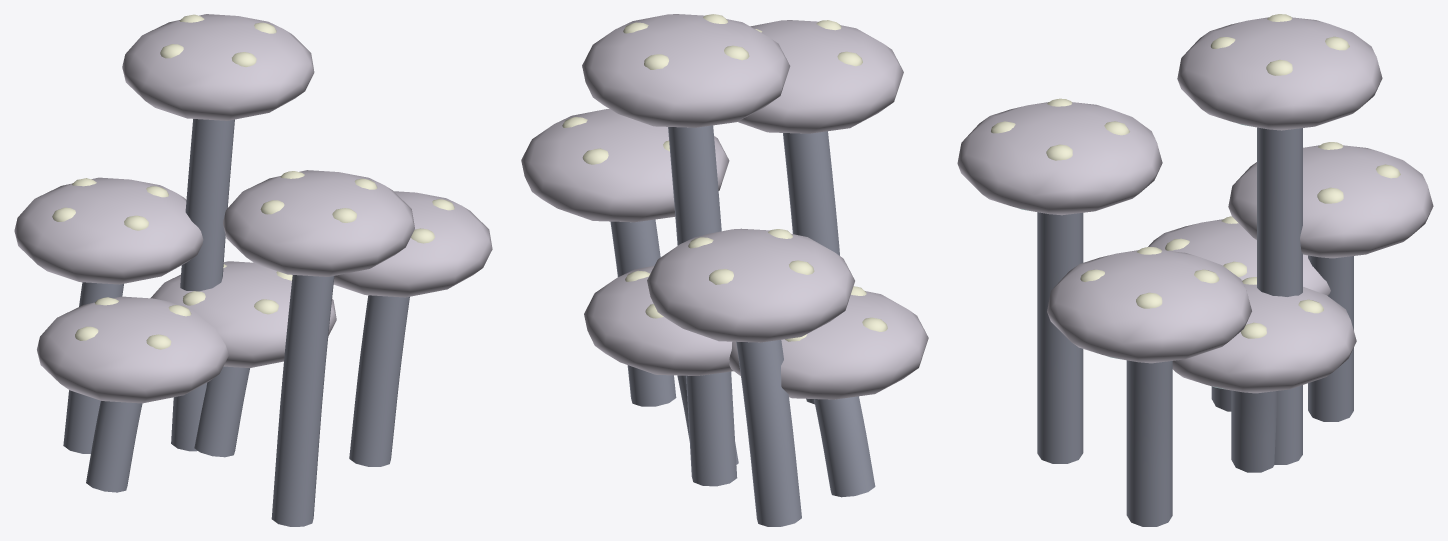
Rendered from bio_spore_fungus_01_far.glb.
3 renders of one model, left to right at view 1: azimuth 30°, elevation 25°; view 2: azimuth 150°, elevation 25°; view 3: azimuth 270°, elevation 25°, orthographic. The views are drawn at different scales.
Parts seen in each view (by area): view 1: Thick umbrella cap.002, Thick umbrella cap.003, Thick umbrella cap.004, Thick umbrella cap.001, Curved stipe.002, Thick umbrella cap.005, Curved stipe.003, Thick umbrella cap, Curved stipe.005, Curved stipe.004, Curved stipe, Curved stipe.001 (+5 smaller); view 2: Thick umbrella cap.003, Thick umbrella cap.001, Thick umbrella cap.005, Thick umbrella cap.002, Thick umbrella cap.004, Curved stipe.003, Thick umbrella cap, Curved stipe.001, Curved stipe.002, Curved stipe.004, Curved stipe.005, Cap nodule.004 (+4 smaller); view 3: Thick umbrella cap.003, Thick umbrella cap.002, Thick umbrella cap.005, Thick umbrella cap.001, Thick umbrella cap, Curved stipe.003, Curved stipe.002, Curved stipe.005, Curved stipe.001, Thick umbrella cap.004, Curved stipe, Cap nodule.008 (+5 smaller).
Boxes of the visible parts, x1,y1,x2,y2 form: Thick umbrella cap.002: (223, 170, 414, 276); Thick umbrella cap.003: (122, 14, 314, 120); Thick umbrella cap.004: (37, 296, 228, 403); Thick umbrella cap.001: (14, 177, 203, 284); Curved stipe.002: (271, 275, 334, 526); Thick umbrella cap.005: (333, 191, 492, 297); Curved stipe.003: (171, 119, 234, 451); Thick umbrella cap: (150, 261, 336, 367); Curved stipe.005: (349, 295, 409, 466); Curved stipe.004: (86, 401, 142, 492); Curved stipe: (194, 366, 249, 457); Curved stipe.001: (63, 282, 123, 453); Thick umbrella cap.003: (582, 14, 790, 127); Thick umbrella cap.001: (647, 228, 854, 342); Thick umbrella cap.005: (521, 109, 729, 222); Thick umbrella cap.002: (737, 20, 903, 133); Thick umbrella cap.004: (729, 291, 928, 399); Curved stipe.003: (668, 125, 737, 486); Thick umbrella cap: (584, 265, 733, 375); Curved stipe.001: (736, 340, 801, 526); Curved stipe.002: (783, 131, 839, 404); Curved stipe.004: (814, 396, 875, 497); Curved stipe.005: (610, 219, 676, 406); Cap nodule.004: (688, 229, 814, 284); Thick umbrella cap.003: (1177, 17, 1382, 130); Thick umbrella cap.002: (957, 102, 1162, 215); Thick umbrella cap.005: (1047, 250, 1251, 363); Thick umbrella cap.001: (1228, 145, 1433, 258); Thick umbrella cap: (1172, 283, 1356, 393); Curved stipe.003: (1257, 127, 1302, 464); Curved stipe.002: (1037, 212, 1083, 463); Curved stipe.005: (1126, 360, 1172, 526); Curved stipe.001: (1308, 255, 1353, 421); Thick umbrella cap.004: (1148, 219, 1330, 295); Curved stipe: (1231, 390, 1277, 472); Cap nodule.008: (991, 98, 1129, 160).
Size of the model in its own units: 1.78 by 1.78 by 1.76.
